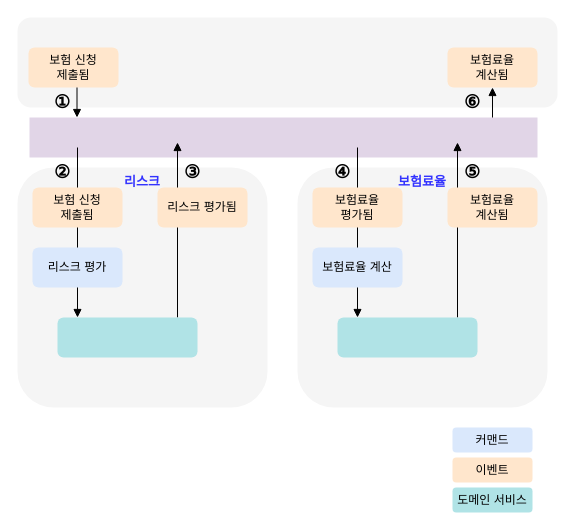
Image size: 574x529. Some labels were removed from this diagram. The shapes that lost their labels are listed below. From the top down, each one's box as (x1, y1, x2, y2) in pixels, then its label:
(17, 17, 557, 107): 보험 계약 심사
(29, 117, 537, 157): 메시지 버스
(57, 317, 197, 357): 리스크 평가 서비스
(337, 317, 477, 357): 보험료율 계산 서비스
